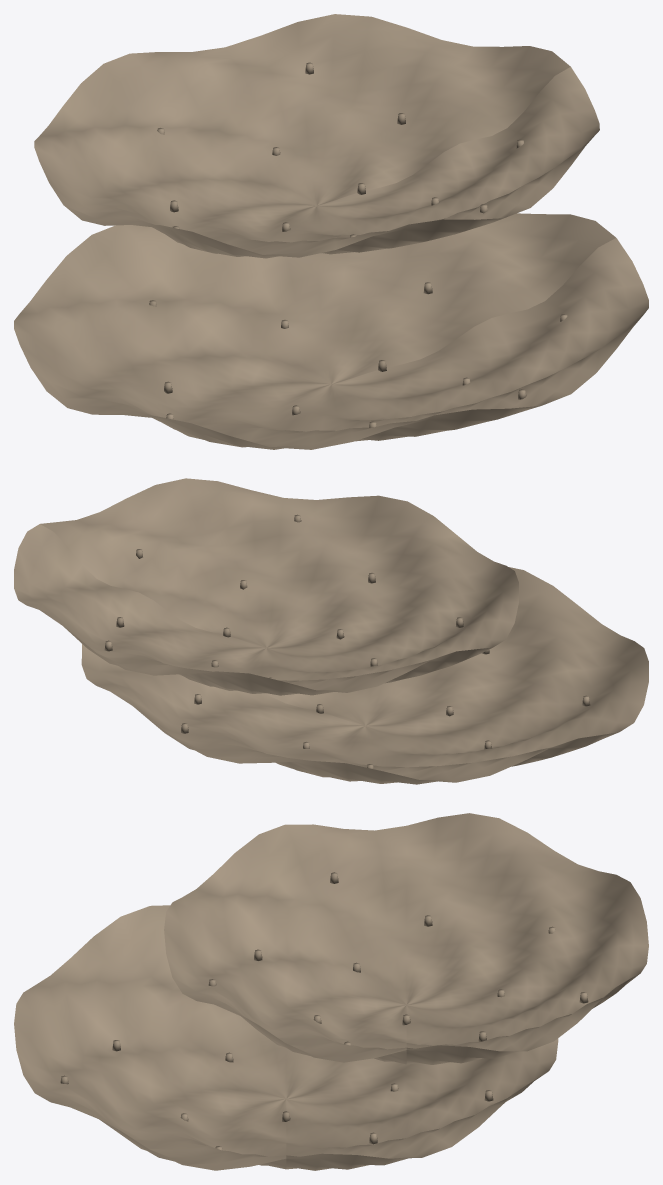
The model's file is plate-mobile.glb.
3 views of the same model, one above another, from view 1: azimuth 30°, elevation 25°; view 2: azimuth 150°, elevation 25°; view 3: azimuth 270°, elevation 25° (orthographic). The views are drawn at different scales.
Visible parts, largest first — view 1: foliate-plate, surface-corallite; view 2: foliate-plate, surface-corallite; view 3: foliate-plate, surface-corallite.
Boxes of the visible parts, bbox=[...] form: foliate-plate: bbox=[14, 14, 648, 449]; surface-corallite: bbox=[149, 62, 567, 427]; foliate-plate: bbox=[14, 478, 648, 784]; surface-corallite: bbox=[104, 514, 590, 768]; foliate-plate: bbox=[14, 813, 648, 1170]; surface-corallite: bbox=[60, 872, 588, 1150].
Size of the model in its own units: 0.659 by 0.2174 by 0.6419.
